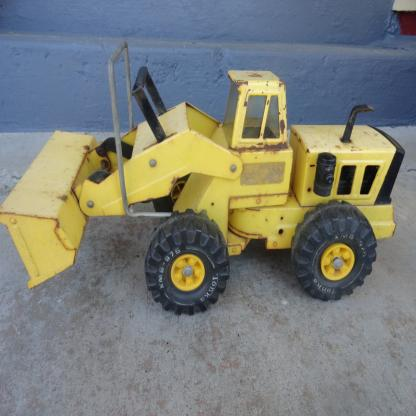bull_dozer/loader/grader: (14, 39, 416, 328)
